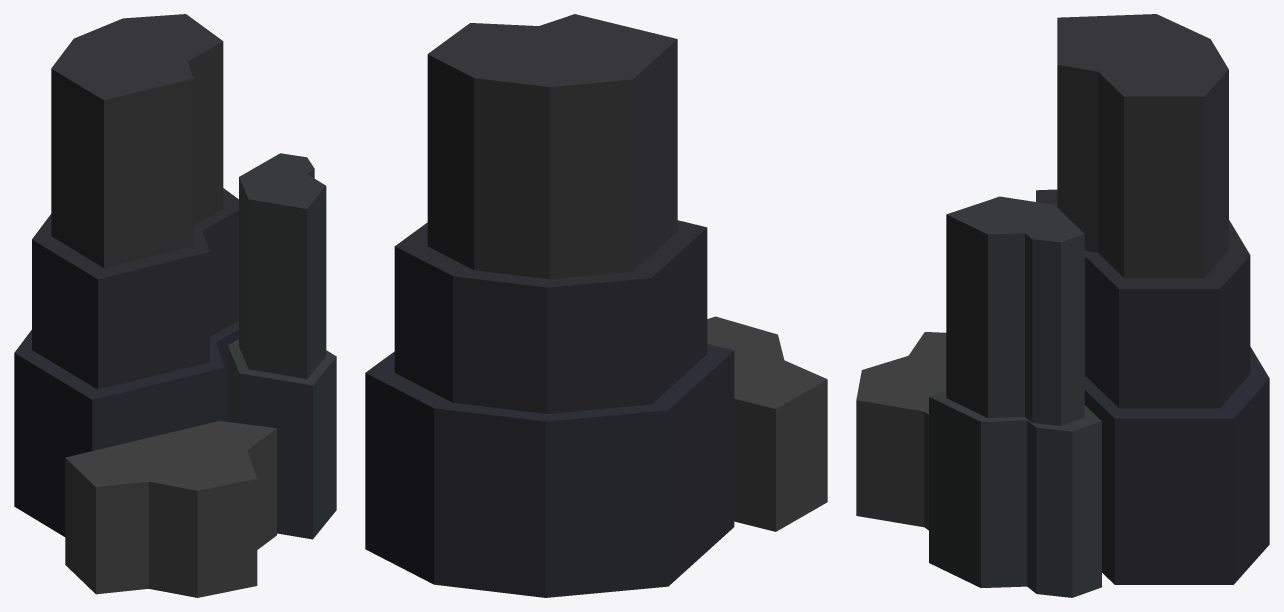
Rendered from NC_Stone02.fbx.
The picture shows the model from 3 angles, left to right: view 1: azimuth 30°, elevation 25°; view 2: azimuth 150°, elevation 25°; view 3: azimuth 270°, elevation 25°; orthographic projection. The views are drawn at different scales.
Parts seen in each view (by area): view 1: NC_Stone02; view 2: NC_Stone02; view 3: NC_Stone02.
Part boxes in pixels (x1,y1,x2,y2): NC_Stone02: (14, 14, 336, 597); NC_Stone02: (365, 14, 827, 597); NC_Stone02: (856, 14, 1269, 597).
Bounding box in the file's own units: 46.55 × 67.36 × 54.08.
Materials: 1 (1 with a texture image).
